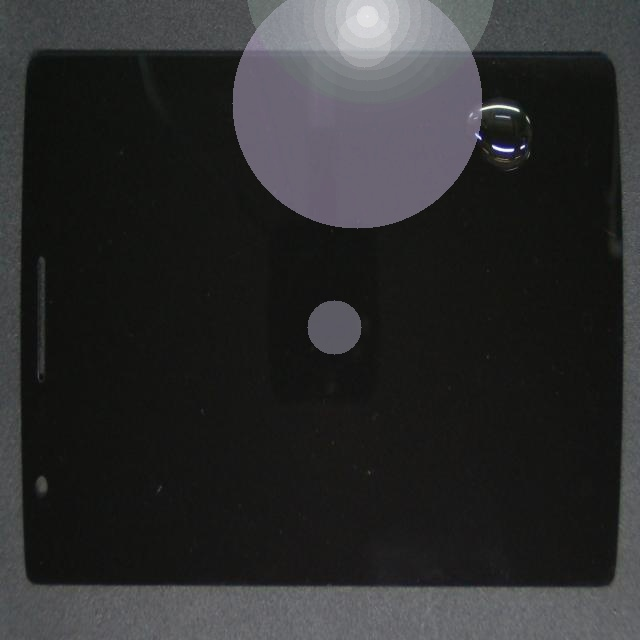oil: (278, 68, 640, 173)
